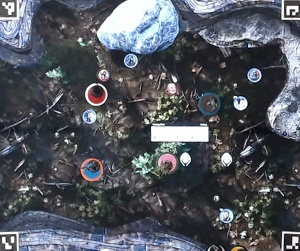brown_turquoise: (198, 92, 221, 115)
light_blue_orange: (81, 157, 104, 180)
pink_green: (155, 152, 178, 175)
red: (85, 83, 108, 106)
